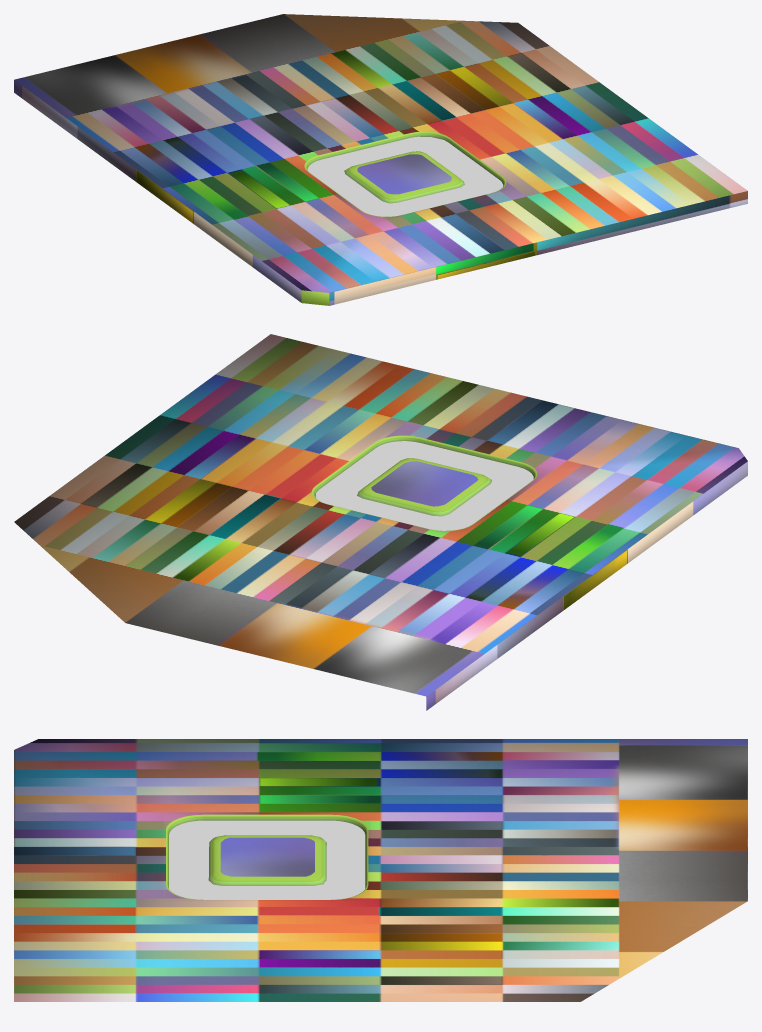
The model's file is LargeGroundPiece.fbx.
3 views of the same model, one above another, from view 1: azimuth 30°, elevation 25°; view 2: azimuth 150°, elevation 25°; view 3: azimuth 270°, elevation 25° (orthographic). The views are drawn at different scales.
Parts seen in each view (by area): view 1: Ground, Plane.001; view 2: Ground, Plane.001; view 3: Ground, Plane.001.
Part boxes in pixels (x1,y1,x2,y2): Ground: [14, 14, 747, 305]; Plane.001: [307, 136, 503, 216]; Ground: [14, 334, 747, 710]; Plane.001: [316, 441, 533, 530]; Ground: [14, 739, 747, 1001]; Plane.001: [169, 820, 365, 899].
Size of the model in its own units: 5139 by 149 by 6064.
